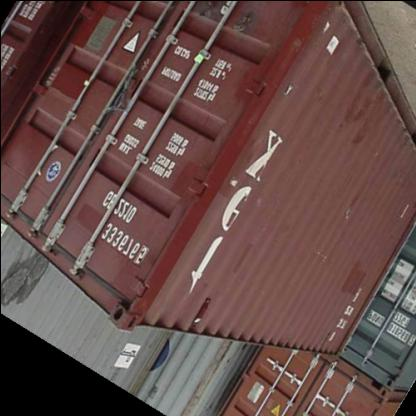Damage: (276, 75, 310, 105), (302, 245, 332, 268), (174, 308, 209, 326), (247, 195, 273, 211), (338, 210, 354, 226)
